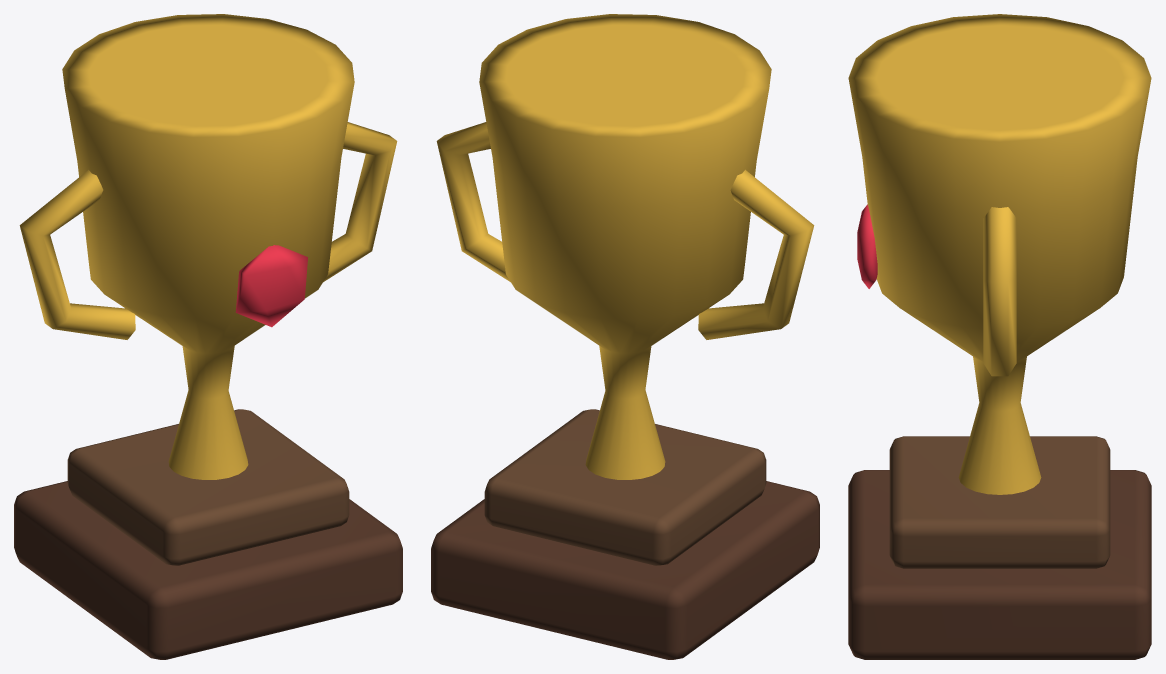
File: furn_jackbox_trophy.glb
3 views of the same model, side by side, from view 1: azimuth 30°, elevation 25°; view 2: azimuth 150°, elevation 25°; view 3: azimuth 270°, elevation 25° (orthographic). The views are drawn at different scales.
Parts seen in each view (by area): view 1: furn_jackbox_trophy_gloss, furn_jackbox_trophy_main; view 2: furn_jackbox_trophy_gloss, furn_jackbox_trophy_main; view 3: furn_jackbox_trophy_gloss, furn_jackbox_trophy_main.
Part boxes in pixels (box(x1,y1,x2,y2)): furn_jackbox_trophy_gloss: box(19, 14, 397, 479); furn_jackbox_trophy_main: box(14, 245, 402, 659); furn_jackbox_trophy_gloss: box(436, 14, 814, 479); furn_jackbox_trophy_main: box(431, 409, 819, 659); furn_jackbox_trophy_gloss: box(848, 14, 1151, 494); furn_jackbox_trophy_main: box(848, 204, 1151, 659).
Bounding box in the file's own units: 0.3194 × 0.42 × 0.22.
